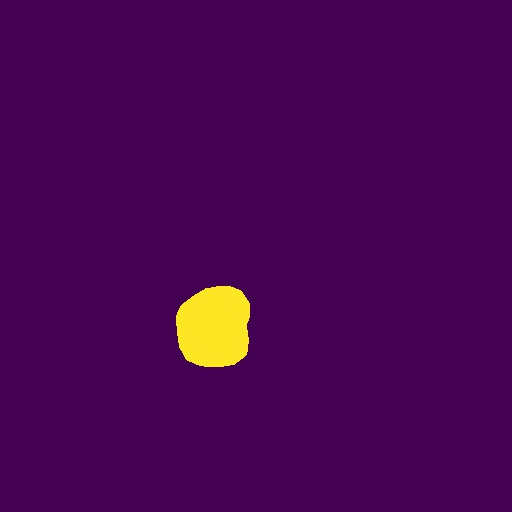Menigiomia_tumour: (176, 286, 250, 367)
